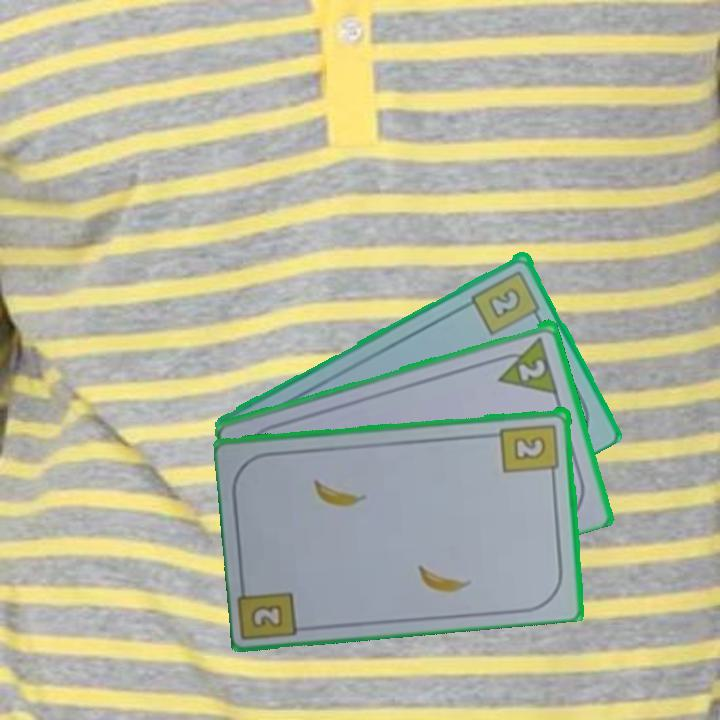2b: (468, 266, 544, 337), (498, 420, 562, 481), (247, 600, 286, 631)
2p: (515, 355, 549, 383)
